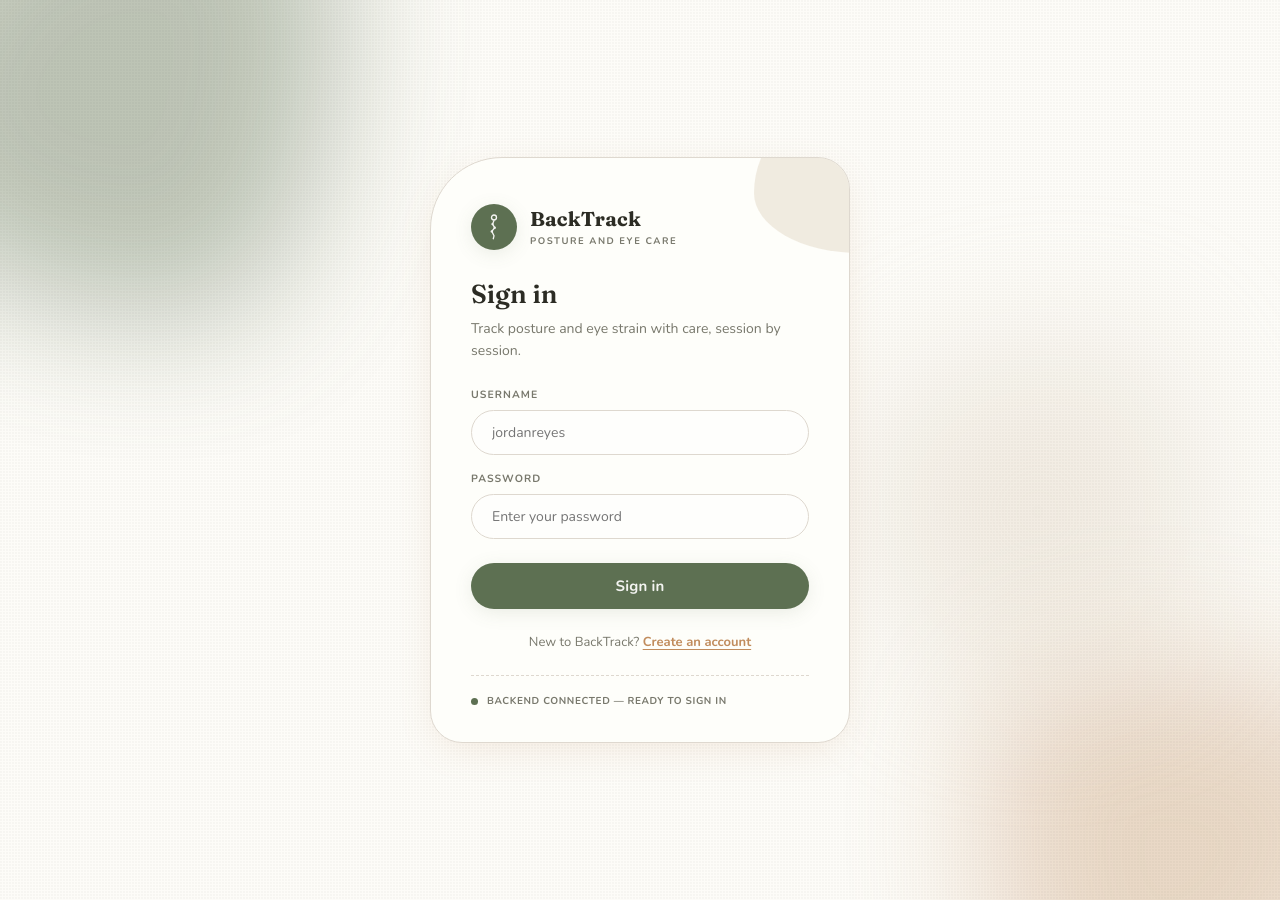
Test: App › stops a running recording before signing out
The width and height of the screenshot is (1280, 900).
Type "jordan" into the field labelled "Username" at (640, 433), box top-left (471, 410), bottom-right (809, 455)
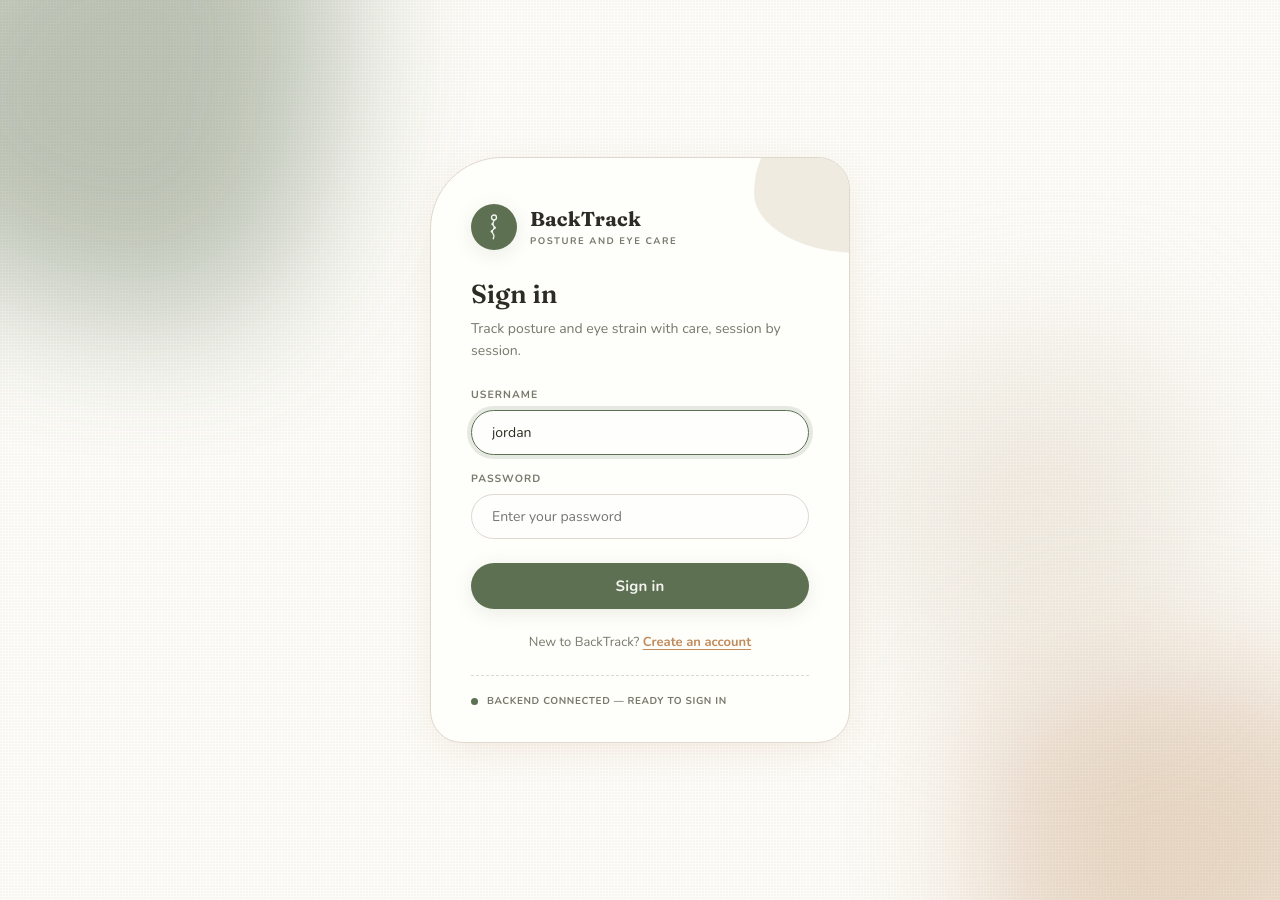
Type "secret1" into the password field labelled "Password" at (640, 517), box top-left (471, 494), bottom-right (809, 539)
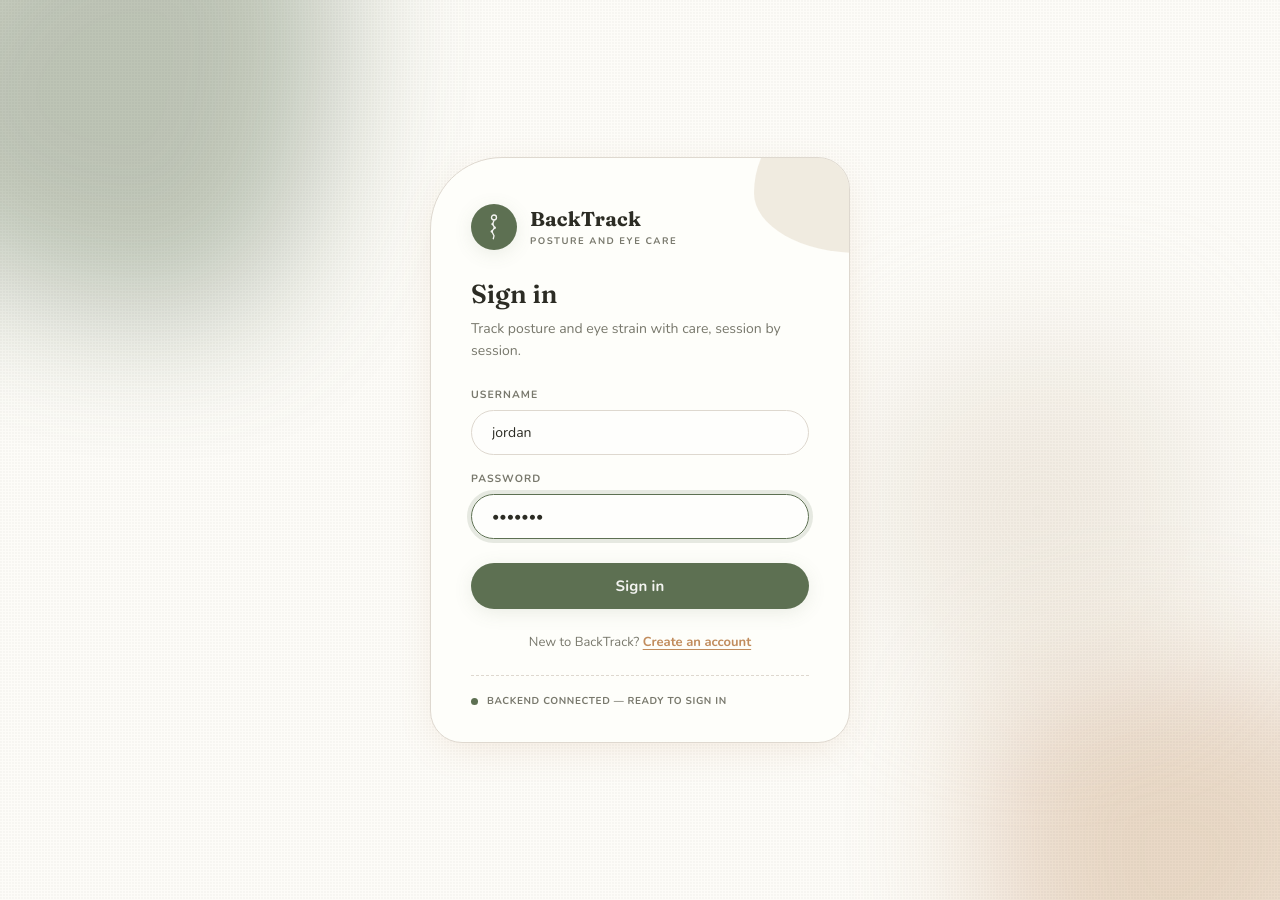
Click the button "Sign in" at (640, 586), box top-left (471, 563), bottom-right (809, 609)
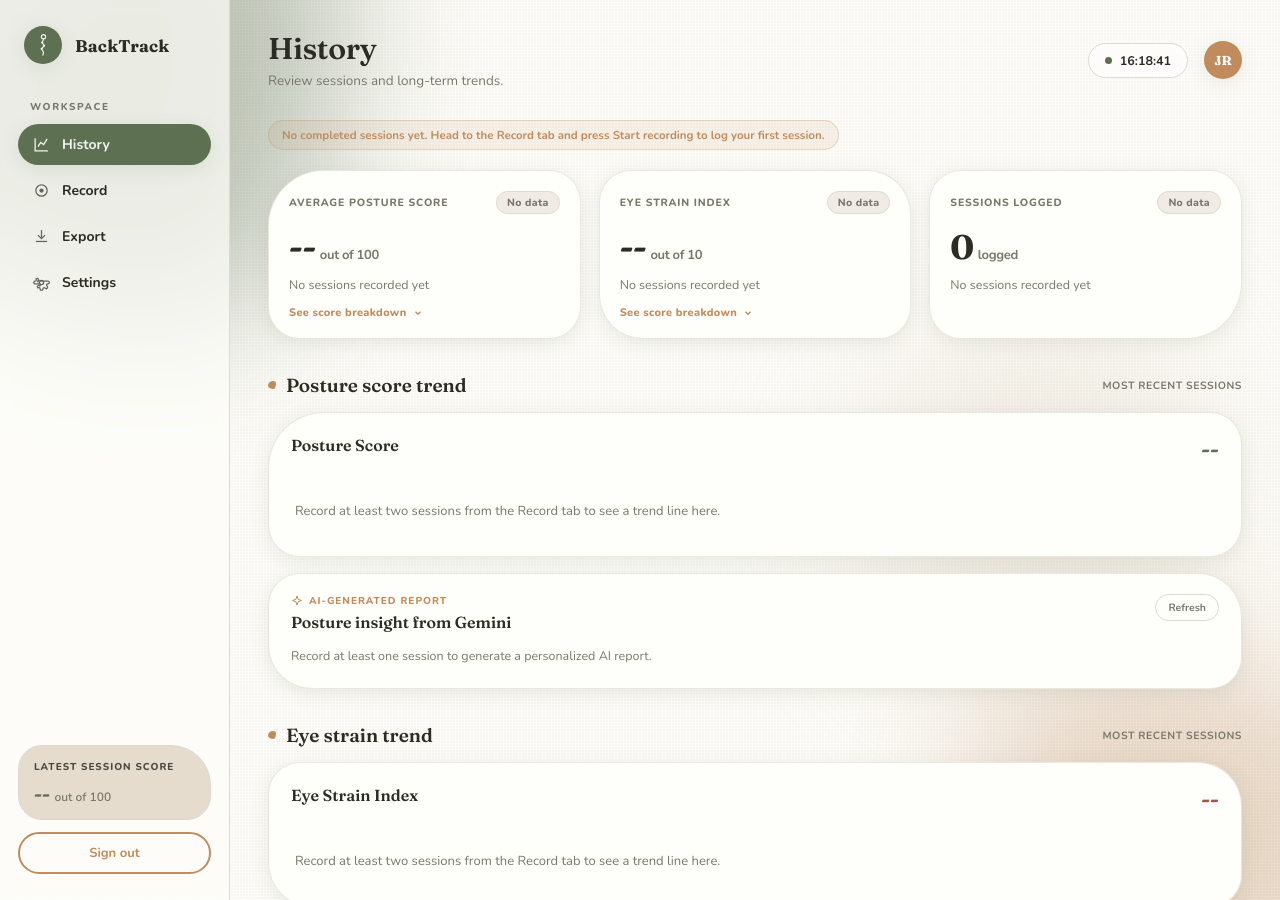
Check: the text "Review sessions and long-term trends." is shown, box top-left (268, 71), bottom-right (503, 90)
Click the button "Sign out" at (114, 853), box top-left (18, 832), bottom-right (211, 874)
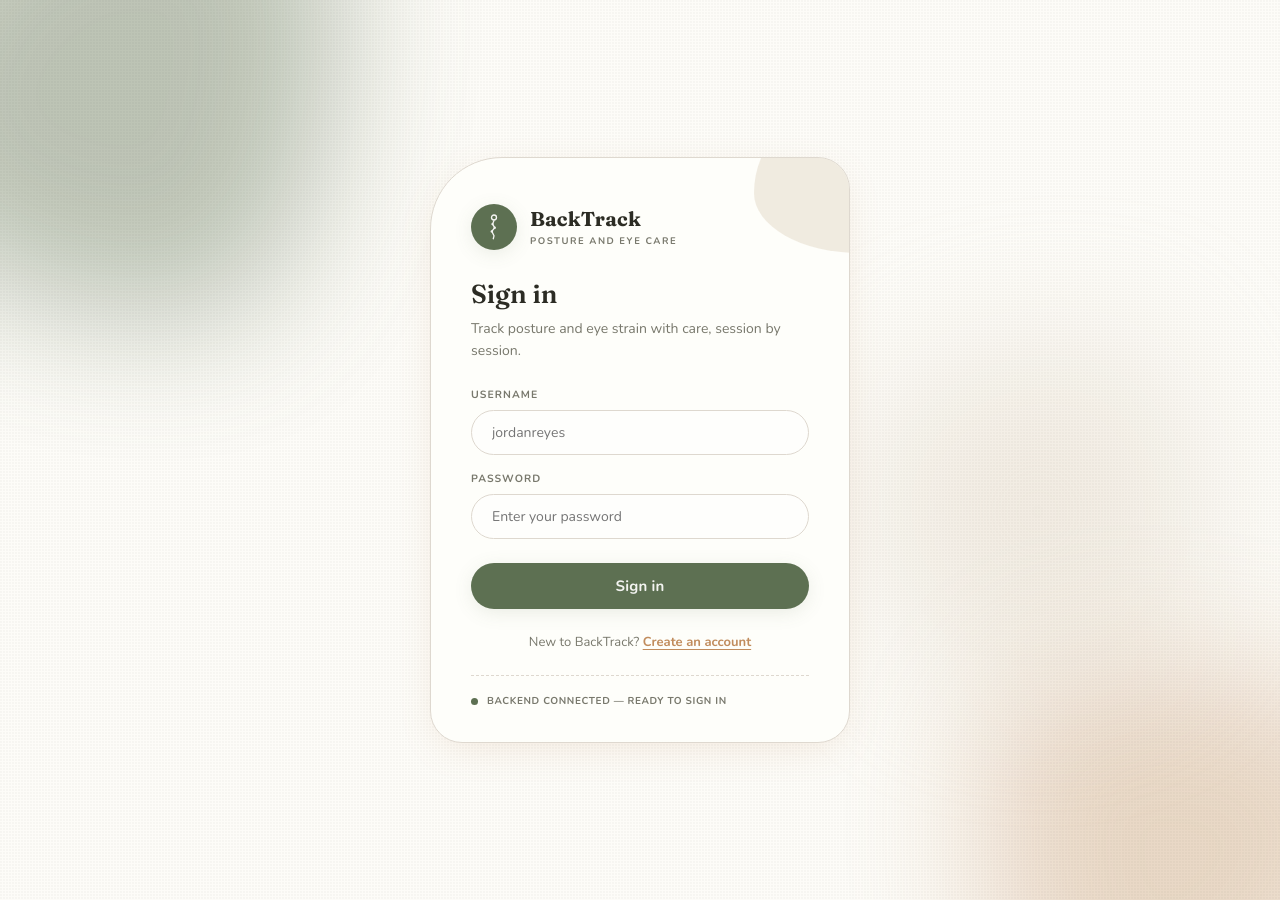
Check: the button "Sign in" is shown, box top-left (471, 563), bottom-right (809, 609)
